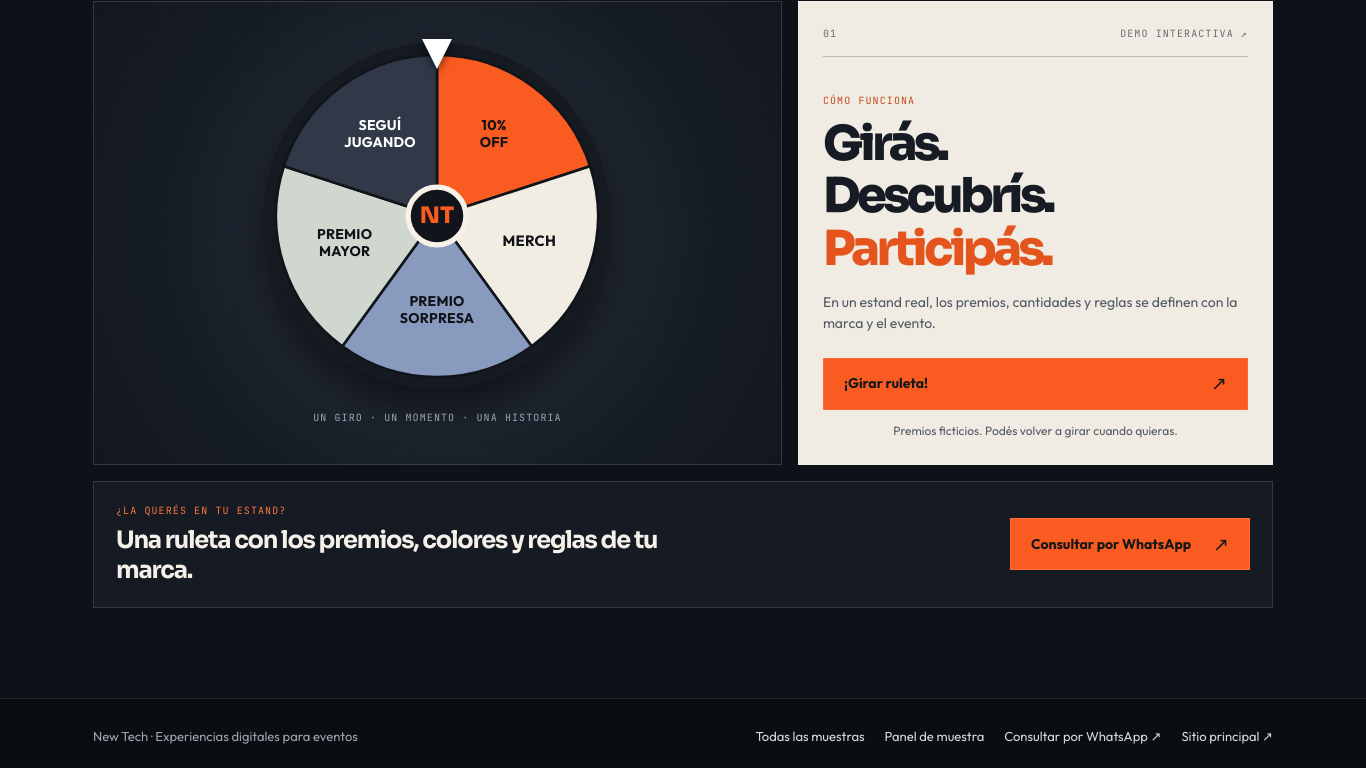
Test case: demo de experiencias › permite reintentar si la ruleta cae en sigue participando
This screenshot has width=1366, height=768.
(page scrolled)
Click the button "¡Girar ruleta! ↗" at (886, 383), box [823,358,1248,410]
Wait 4200 ms
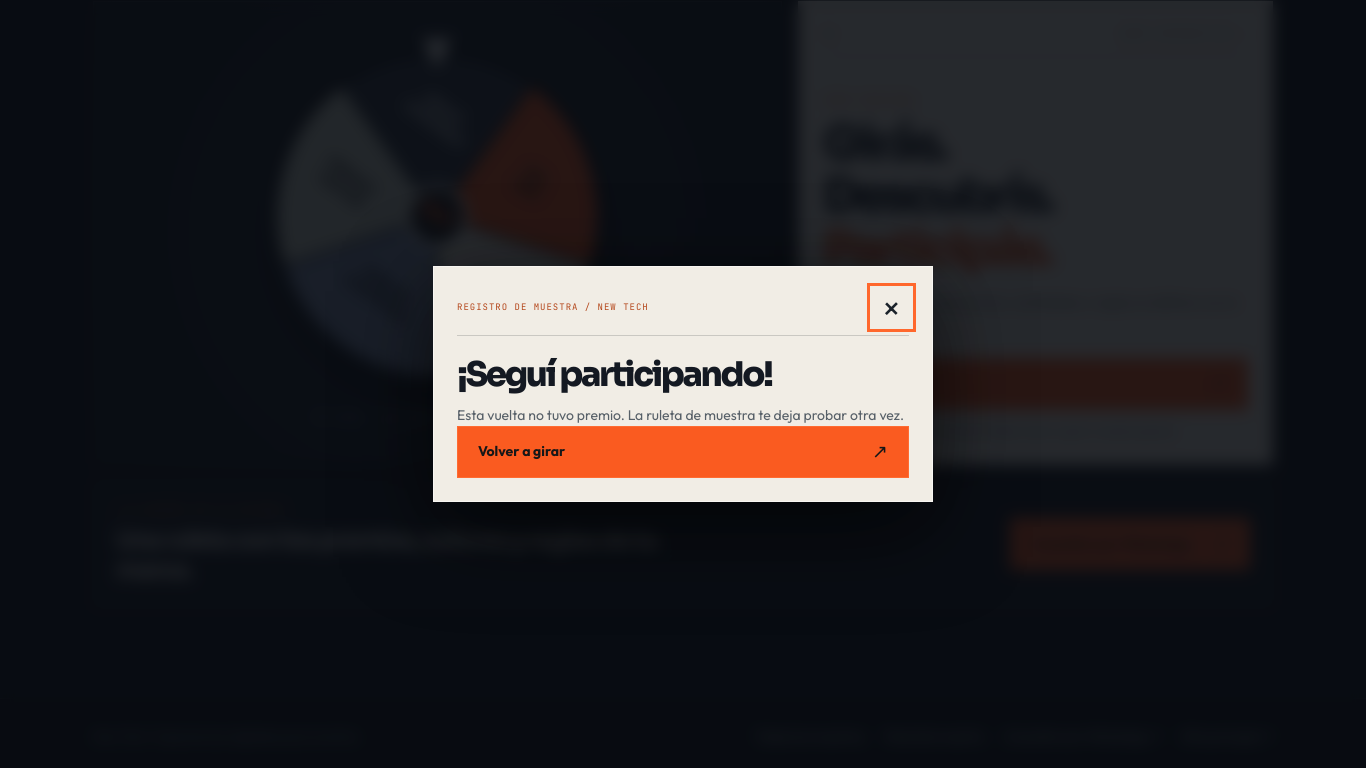
Expected: the dialog "Seguí participando" is shown, [433,266,933,502]
Expected: the button "Volver a girar ↗" is shown, [457,426,909,478]
